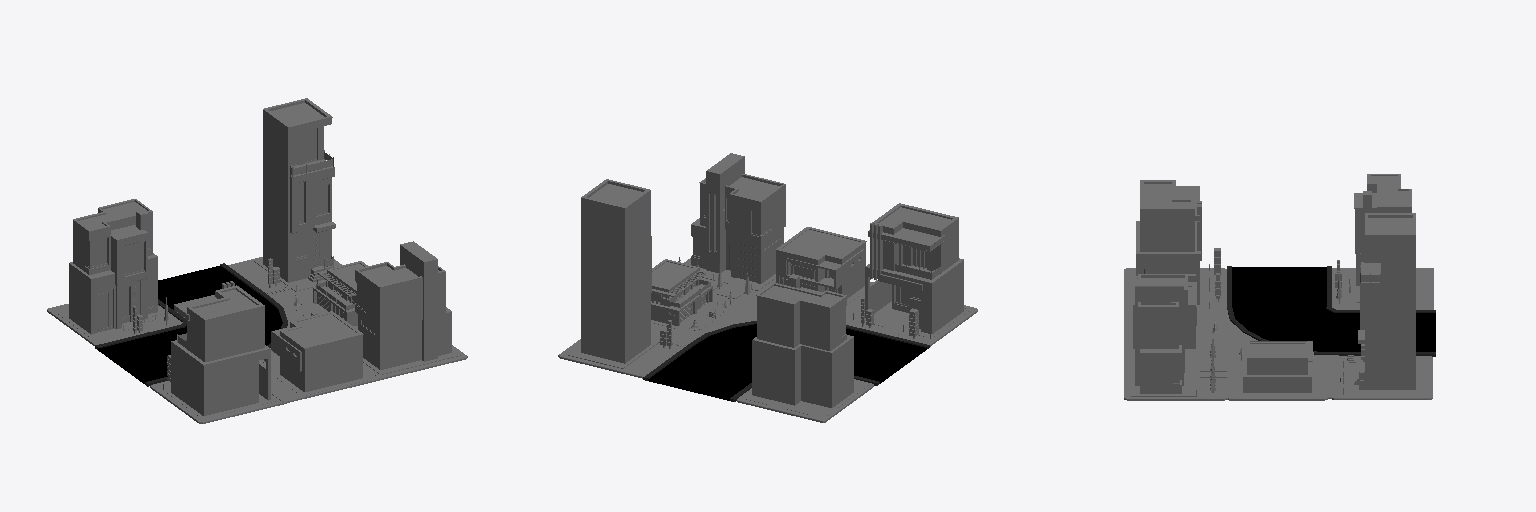
Rendered from road6.obj.
3 views of the same model, side by side, from view 1: azimuth 30°, elevation 25°; view 2: azimuth 150°, elevation 25°; view 3: azimuth 270°, elevation 25° (orthographic).
Visible parts, largest first — view 1: Box437_Mesh_164, 90__Road_Curve_Left_Right001, Box345_Mesh_313, Box335_Mesh_309, Line003_Mesh_356, Box524_Mesh_122, Line017_Mesh_194, Box522_Mesh_120, Box523_Mesh_121, Object093_Mesh_304, Object065_Mesh_355, Object141_Mesh_171 (+19 smaller); view 2: Box437_Mesh_164, 90__Road_Curve_Left_Right001, Line017_Mesh_194, Box422_Mesh_187, Box345_Mesh_313, Box523_Mesh_121, Box524_Mesh_122, Object065_Mesh_355, Box335_Mesh_309, Rectangle007_Mesh_175, Line003_Mesh_356, Object100_Mesh_311 (+22 smaller); view 3: 90__Road_Curve_Left_Right001, Box437_Mesh_164, Box335_Mesh_309, Box523_Mesh_121, Box522_Mesh_120, Object276_Mesh_119, Box345_Mesh_313, Rectangle007_Mesh_175, Box193_Mesh_380, Object122_Mesh_199, Object100_Mesh_311, Line020_Mesh_128 (+15 smaller).
Boxes of the visible parts, x1,y1,x2,y2 form: Box437_Mesh_164: [263, 110, 331, 282]; 90__Road_Curve_Left_Right001: [108, 268, 287, 382]; Box345_Mesh_313: [171, 340, 270, 415]; Box335_Mesh_309: [187, 292, 264, 361]; Line003_Mesh_356: [280, 323, 362, 391]; Box524_Mesh_122: [355, 270, 445, 329]; Line017_Mesh_194: [69, 253, 157, 334]; Box522_Mesh_120: [380, 307, 451, 369]; Box523_Mesh_121: [400, 241, 437, 361]; Object093_Mesh_304: [215, 361, 258, 412]; Object065_Mesh_355: [280, 311, 363, 348]; Object141_Mesh_171: [291, 128, 332, 266]; Box437_Mesh_164: [581, 191, 650, 363]; 90__Road_Curve_Left_Right001: [651, 321, 916, 395]; Line017_Mesh_194: [752, 335, 853, 407]; Box422_Mesh_187: [757, 296, 846, 350]; Box345_Mesh_313: [865, 258, 963, 333]; Box523_Mesh_121: [706, 153, 744, 272]; Box524_Mesh_122: [729, 184, 785, 243]; Object065_Mesh_355: [776, 227, 866, 260]; Box335_Mesh_309: [883, 219, 958, 272]; Rectangle007_Mesh_175: [558, 330, 693, 378]; Line003_Mesh_356: [776, 242, 865, 298]; Object100_Mesh_311: [874, 203, 958, 231]; 90__Road_Curve_Left_Right001: [1227, 272, 1423, 355]; Box437_Mesh_164: [1365, 236, 1415, 389]; Box335_Mesh_309: [1140, 211, 1194, 251]; Box523_Mesh_121: [1135, 280, 1183, 385]; Box522_Mesh_120: [1140, 345, 1181, 393]; Object276_Mesh_119: [1139, 307, 1178, 348]; Box345_Mesh_313: [1136, 221, 1200, 304]; Rectangle007_Mesh_175: [1332, 356, 1432, 399]; Box193_Mesh_380: [1243, 353, 1311, 392]; Object122_Mesh_199: [1354, 174, 1411, 208]; Object100_Mesh_311: [1140, 180, 1194, 210]; Line020_Mesh_128: [1131, 357, 1226, 396].
Size of the model in its own units: 20.05 by 11.23 by 20.06.